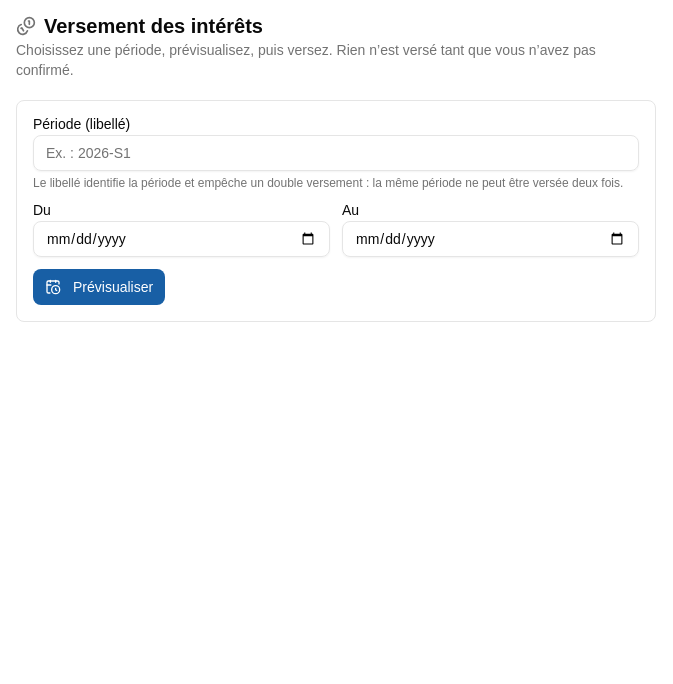
Test: PageVersementInterets › prévisualise : montre le total ET le détail (taux visible), sans rien verser
Type "2026-S1" into the field labelled "Période (libellé)".
click(336, 153); type("2026-S1")  # box top-left (33, 135), bottom-right (639, 171)
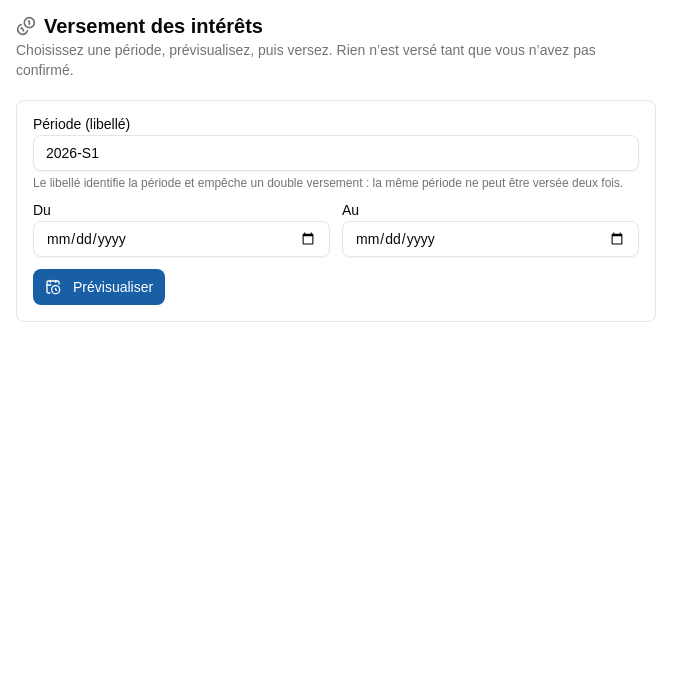
Type "2026-01-01" into the date field labelled "Du".
click(182, 239); type("2026-01-01")  # box top-left (33, 221), bottom-right (330, 257)
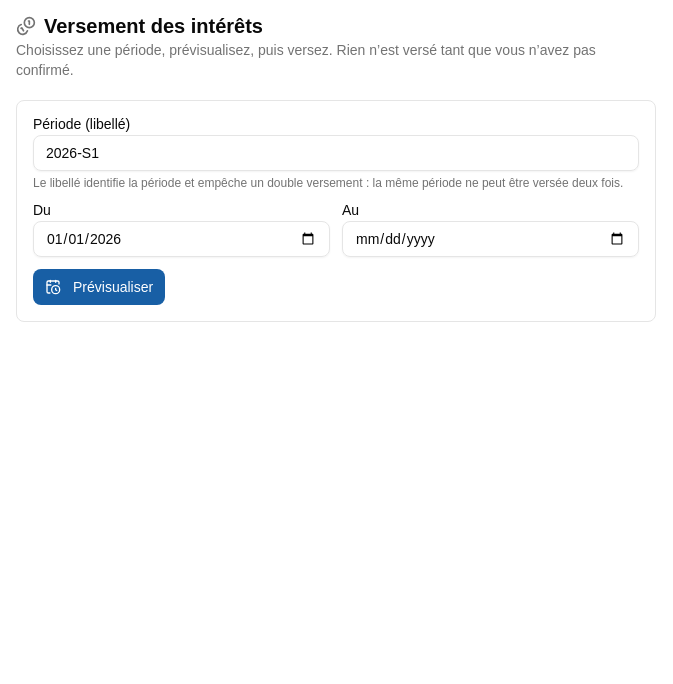
Type "2026-06-30" into the date field labelled "Au".
click(490, 239); type("2026-06-30")  # box top-left (342, 221), bottom-right (639, 257)
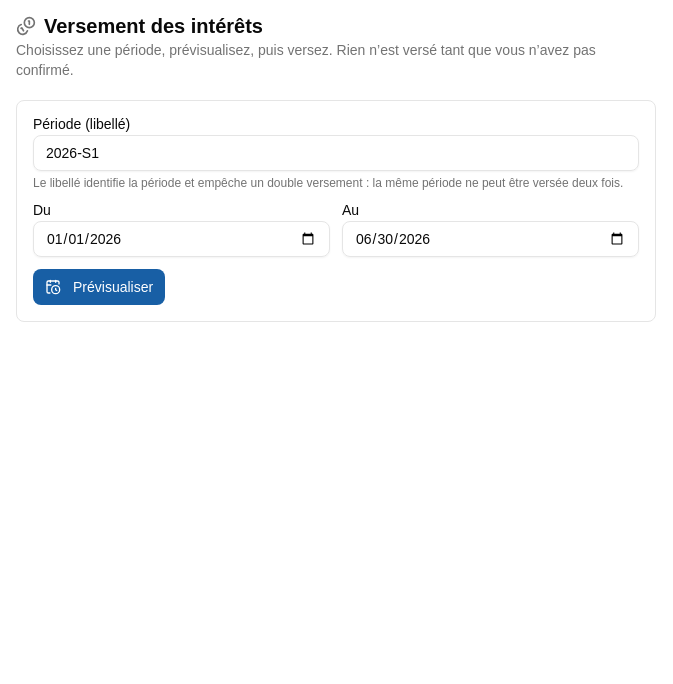
Click the button "Prévisualiser".
click(99, 287)  # box top-left (33, 269), bottom-right (165, 305)
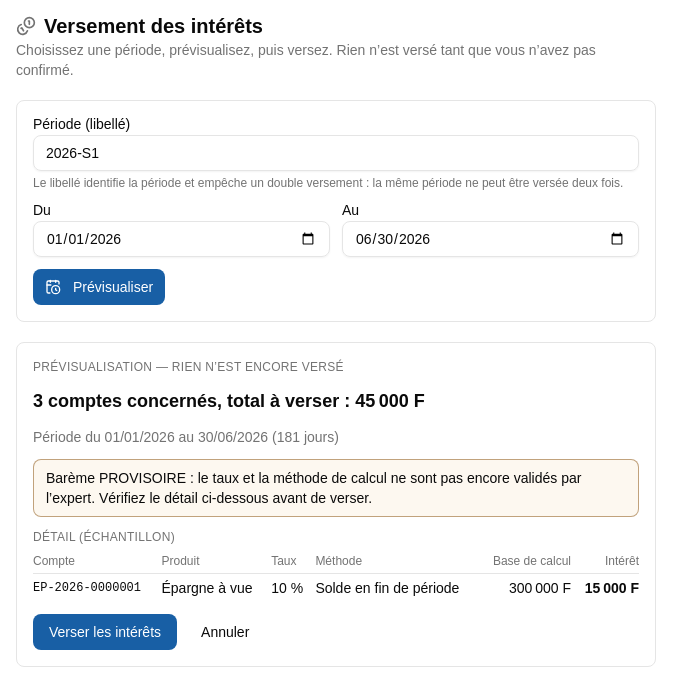
Expected: the text "3 comptes concernés, total à verser : 45 000 F" is shown, top-left (33, 391), bottom-right (425, 411)
Expected: the text "10 %" is shown, top-left (271, 574), bottom-right (315, 602)
Expected: the text "EP-2026-0000001" is shown, top-left (33, 574), bottom-right (162, 602)
